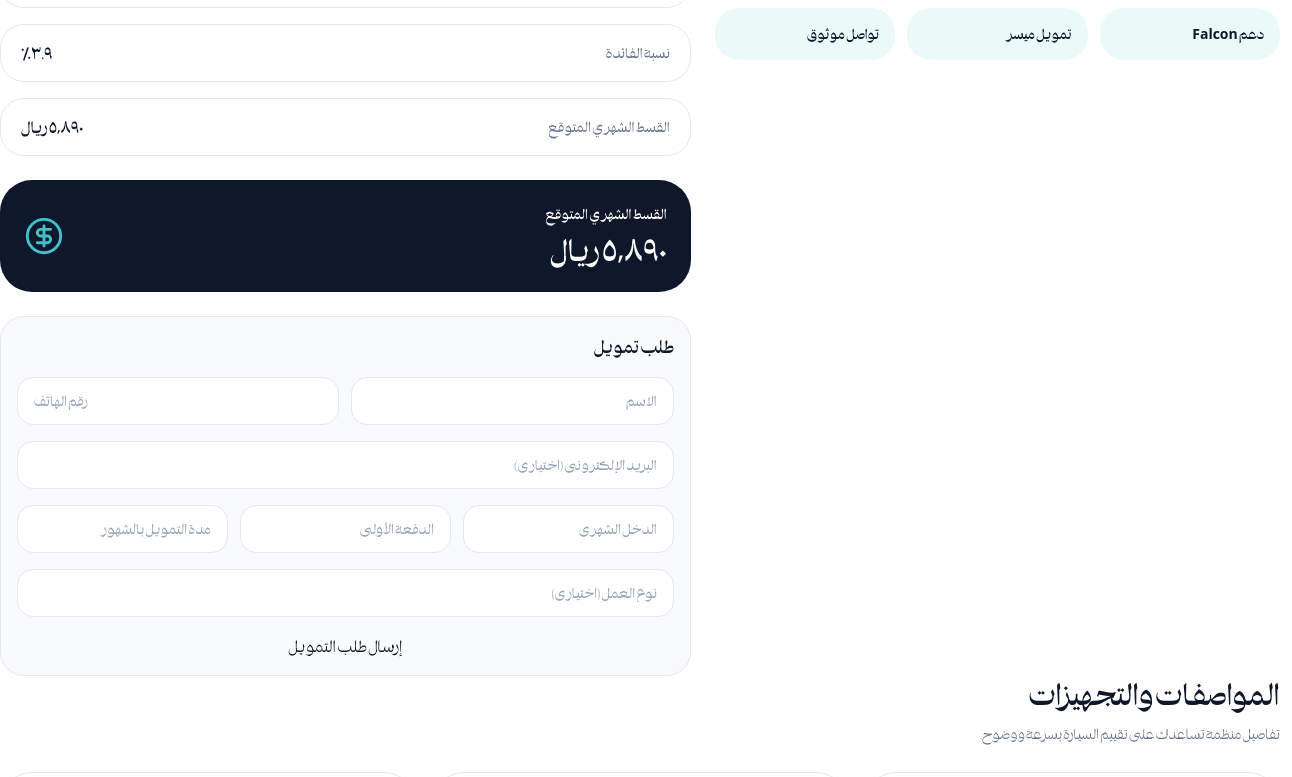
Test: Falcon page states › shows finance form success state
(page scrolled)
Expected: the form "طلب تمويل" is shown, top-left (0, 316), bottom-right (691, 676)
Type "عميل تمويل" into the field with placeholder "الاسم". click: (513, 401)
box: top-left (351, 377), bottom-right (674, 425)
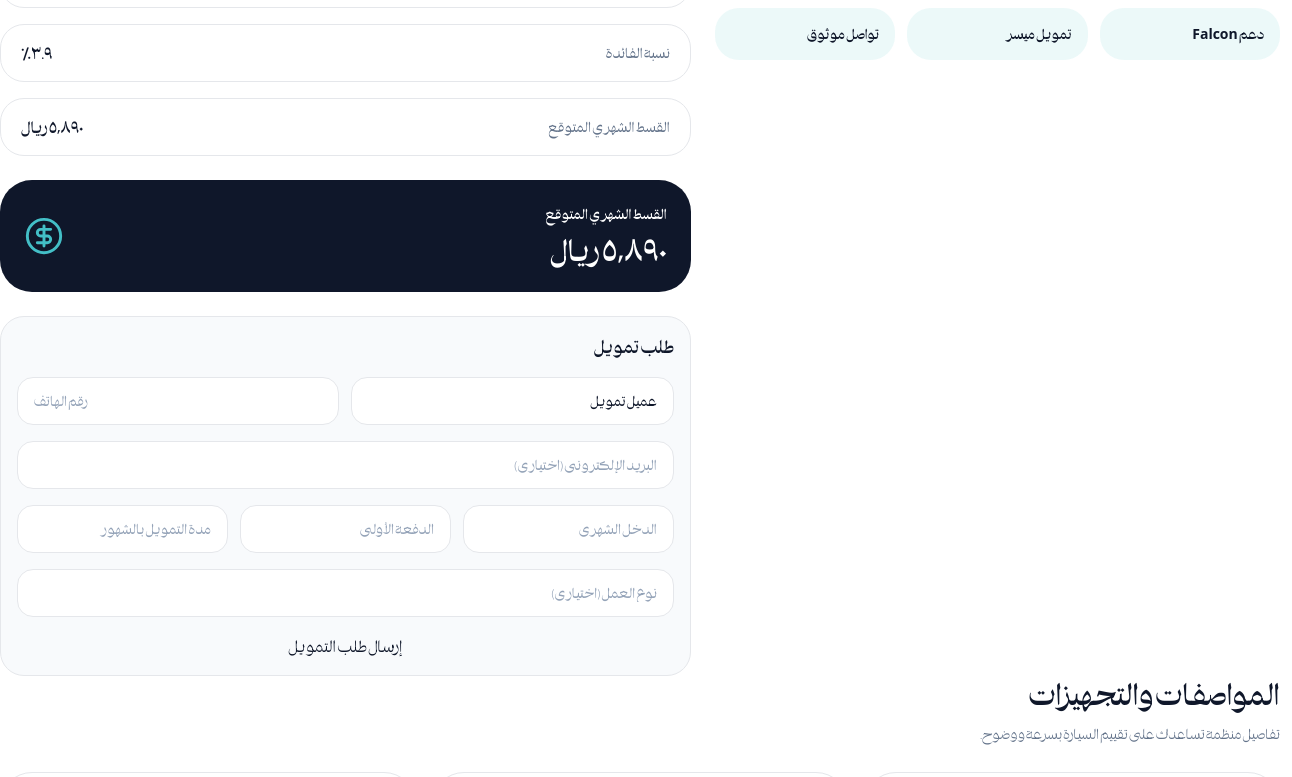
Type "966511111111" into the field with placeholder "رقم الهاتف". click: (178, 401)
box: top-left (17, 377), bottom-right (339, 425)
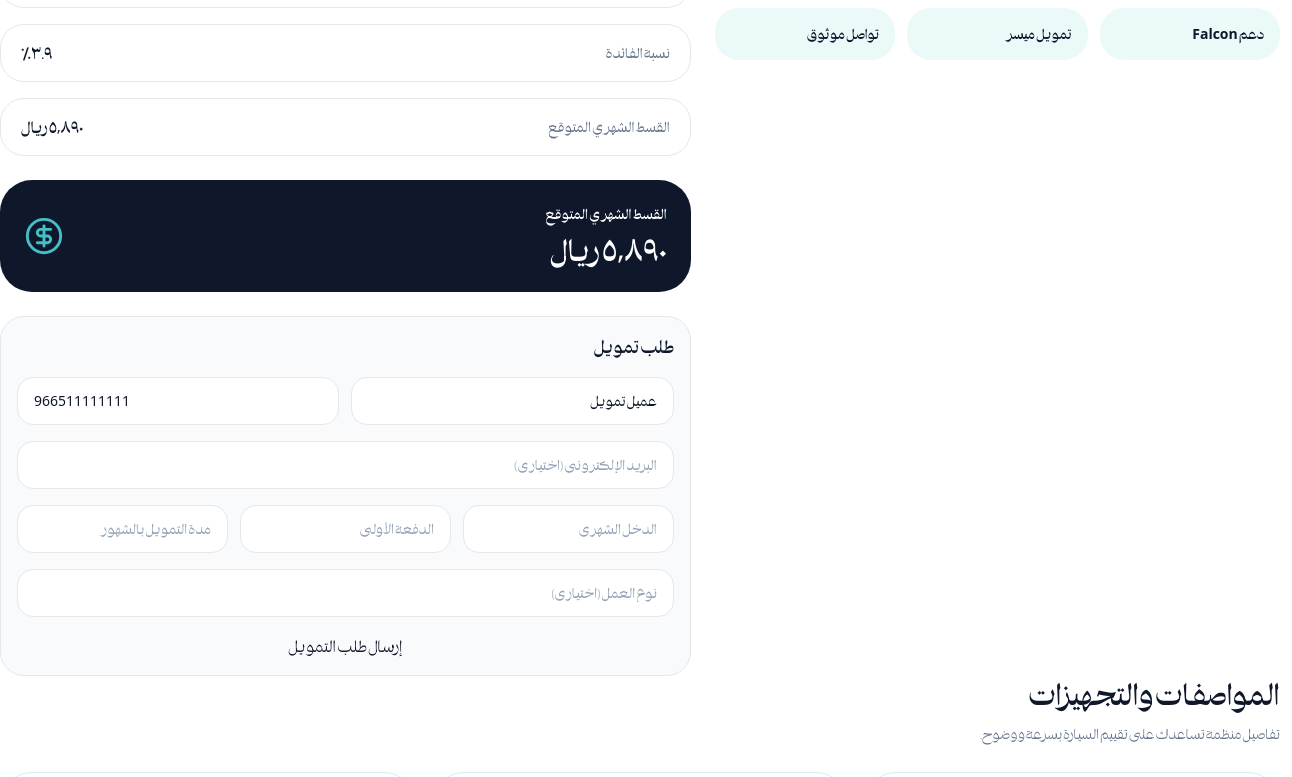
Submit the form "طلب تمويل", box top-left (0, 316), bottom-right (691, 676)
(page scrolled)
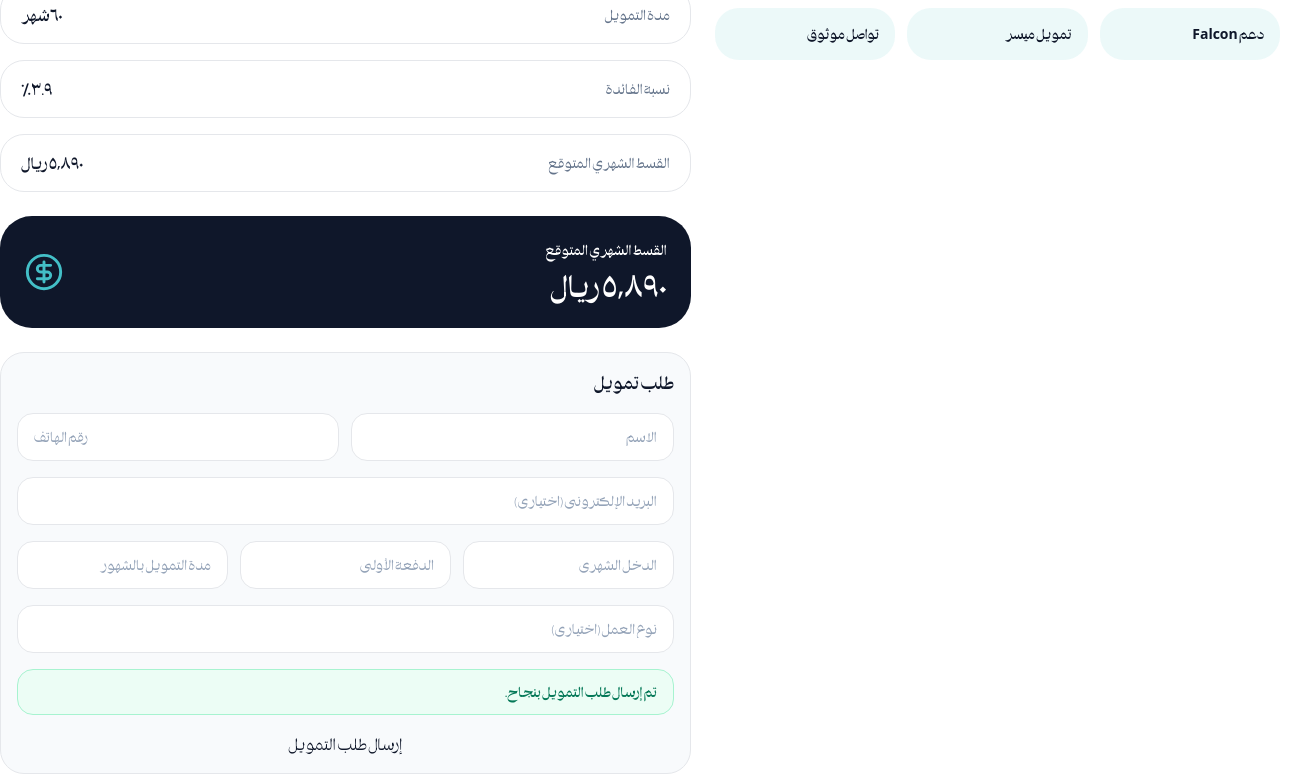
Expected: the text "تم إرسال طلب التمويل بنجاح." is shown, top-left (17, 669), bottom-right (674, 715)
